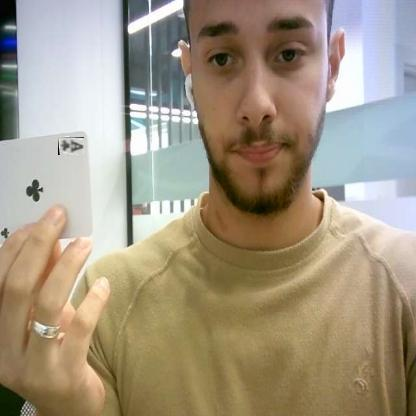AC: (58, 137, 84, 155)
